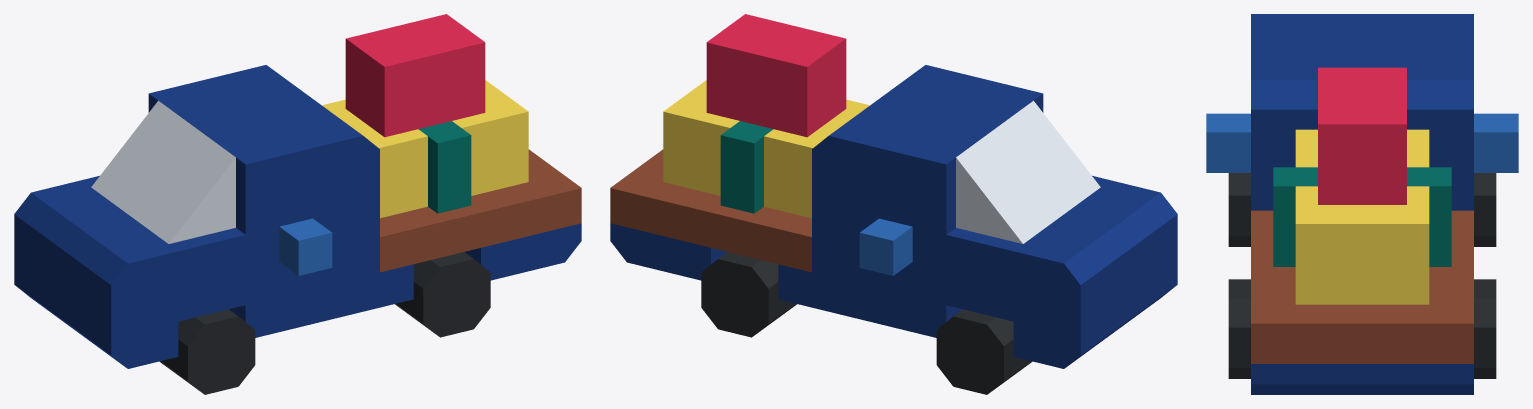
Rendered from truck.obj.
3 views of the same model, side by side, from view 1: azimuth 30°, elevation 25°; view 2: azimuth 150°, elevation 25°; view 3: azimuth 270°, elevation 25° (orthographic). The views are drawn at different scales.
Bounding box in the file's own units: 14 × 7 × 7.
Materials: 1 (1 with a texture image).
